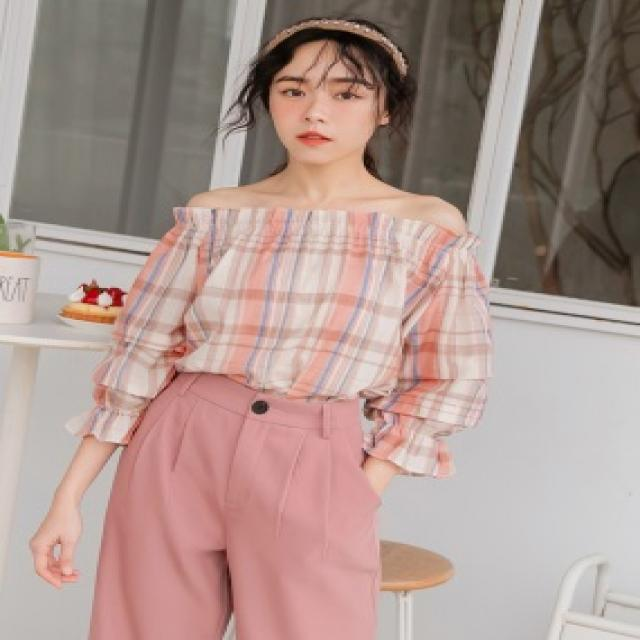plaid: (115, 181, 487, 455)
